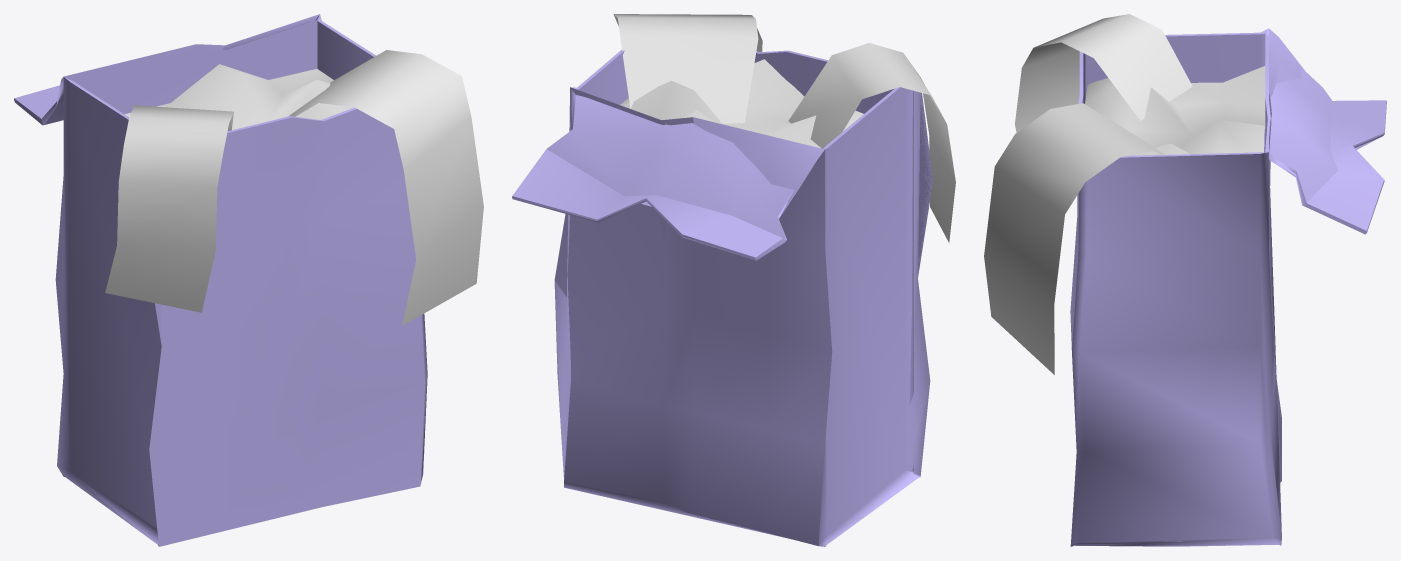
Rendered from PutridBox.fbx.
3 views of the same model, side by side, from view 1: azimuth 30°, elevation 25°; view 2: azimuth 150°, elevation 25°; view 3: azimuth 270°, elevation 25° (orthographic).
Parts seen in each view (by area): view 1: PudridBox; view 2: PudridBox; view 3: PudridBox.
Part boxes in pixels (box(x1,y1,x2,y2)): PudridBox: box(14, 14, 483, 546); PudridBox: box(512, 14, 955, 546); PudridBox: box(984, 14, 1386, 546).
Bounding box in the file's own units: 356 × 400 × 355.
